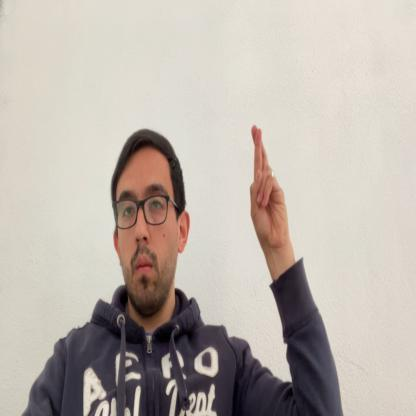R: (250, 124, 289, 248)
